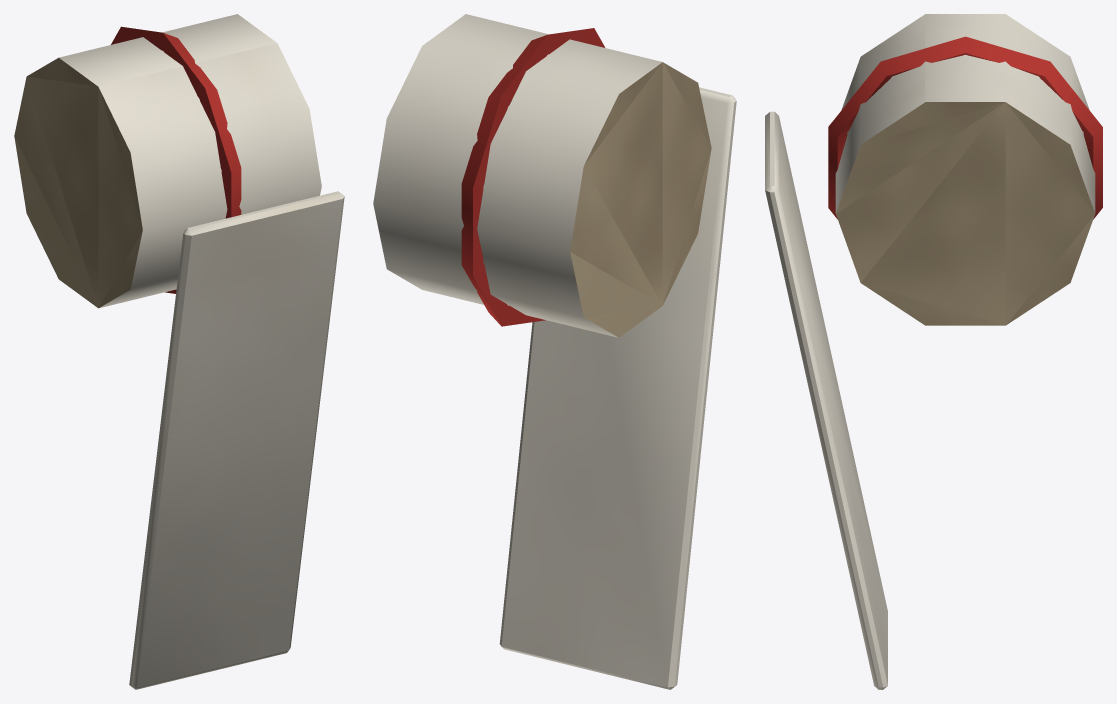
The model's file is SM_Bandage_Held.fbx.
The picture shows the model from 3 angles, left to right: view 1: azimuth 30°, elevation 25°; view 2: azimuth 150°, elevation 25°; view 3: azimuth 270°, elevation 25°; orthographic projection. The views are drawn at different scales.
Parts seen in each view (by area): view 1: SM_Bandage_Held; view 2: SM_Bandage_Held; view 3: SM_Bandage_Held.
Boxes of the visible parts, x1=… form: SM_Bandage_Held: x1=14, y1=14, x2=344, y2=689; SM_Bandage_Held: x1=373, y1=14, x2=736, y2=689; SM_Bandage_Held: x1=765, y1=14, x2=1102, y2=689.
Bounding box in the file's own units: 0.45 × 1.46 × 0.729.
1 material, 1 textured.
